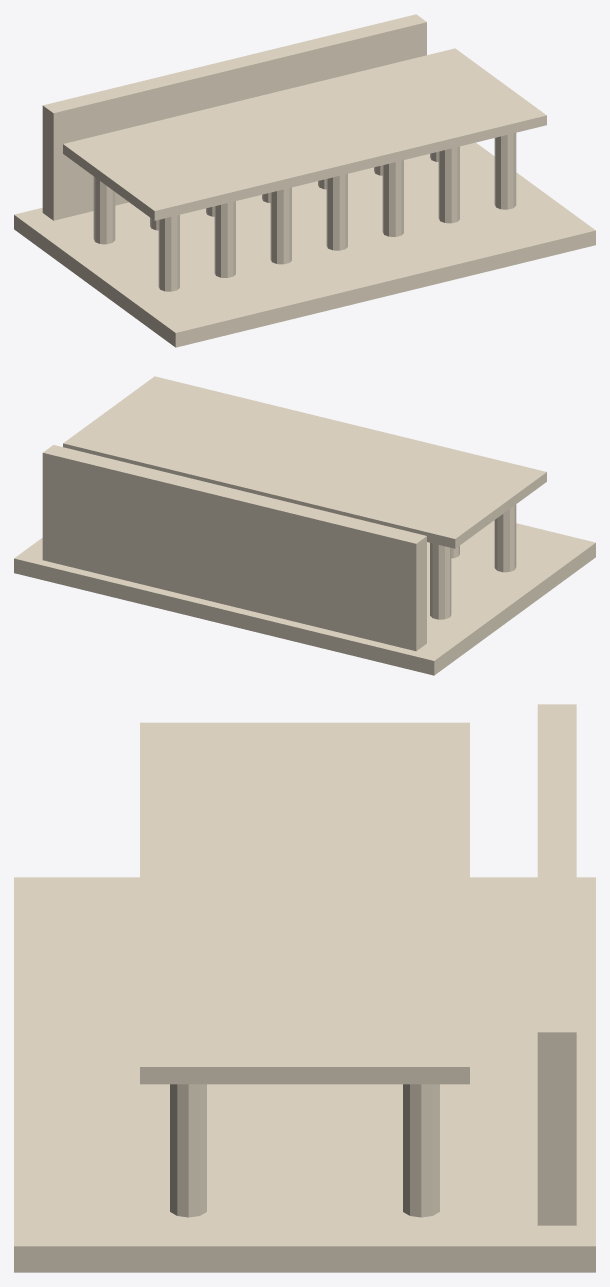
File: forum.glb
The picture shows the model from 3 angles, top to bottom: view 1: azimuth 30°, elevation 25°; view 2: azimuth 150°, elevation 25°; view 3: azimuth 270°, elevation 25°; orthographic projection. The views are drawn at different scales.
Visible parts, largest first — view 1: forum; view 2: forum; view 3: forum.
Part boxes in pixels (box(x1,y1,x2,y2)): forum: box(14, 14, 595, 347); forum: box(14, 376, 595, 675); forum: box(14, 704, 595, 1272).
Bounding box in the file's own units: 0.9 × 0.25 × 0.6.
